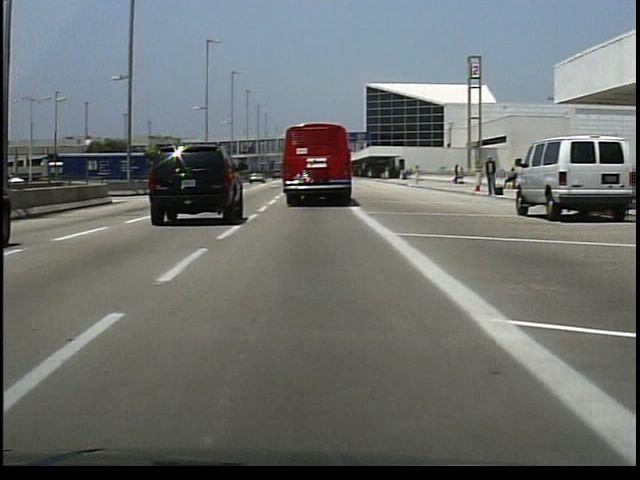person: (481, 154, 500, 202), (502, 166, 518, 193)
